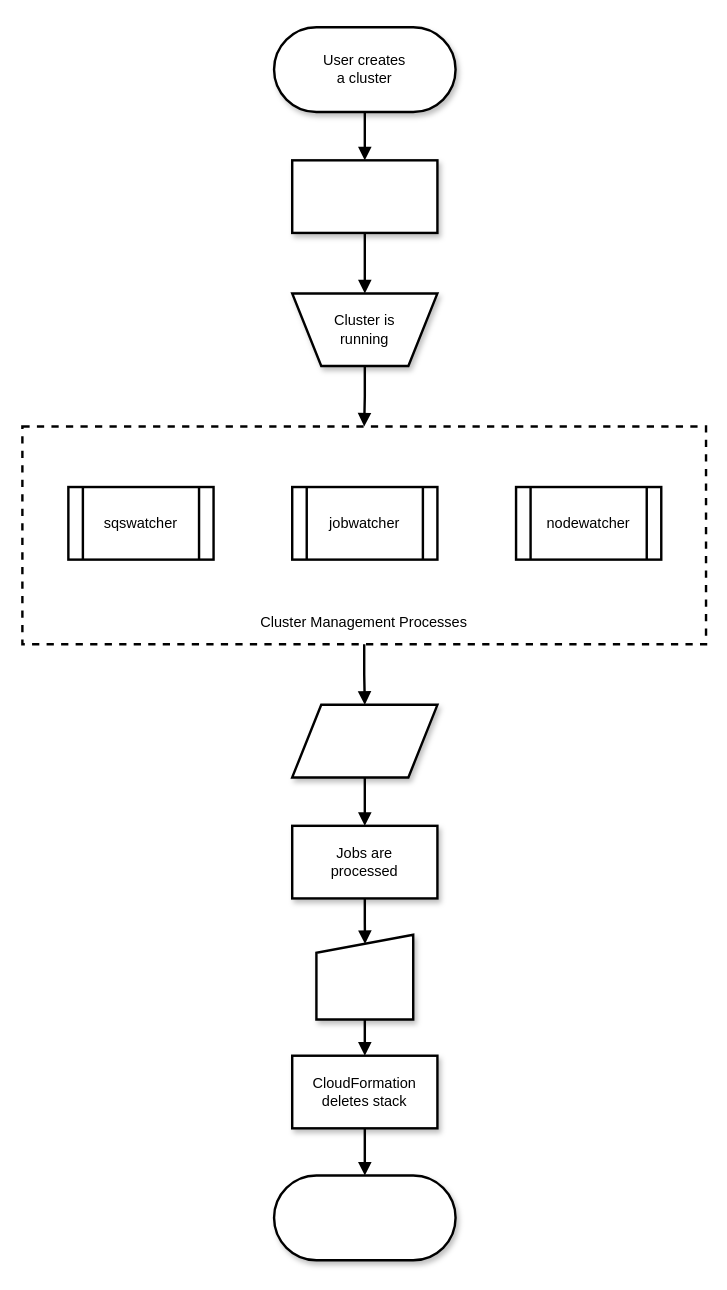
The diagram is 727 pixels wide and 1290 high, and some of its shapes have lost their labels. Each missing label, with the centre of its shape:
"CloudFormation launches cluster" goes at (x=365, y=198).
"Cluster is terminated" goes at (x=365, y=1219).
"User deletes cluster" goes at (x=365, y=978).
"User submits a job" goes at (x=365, y=742).
